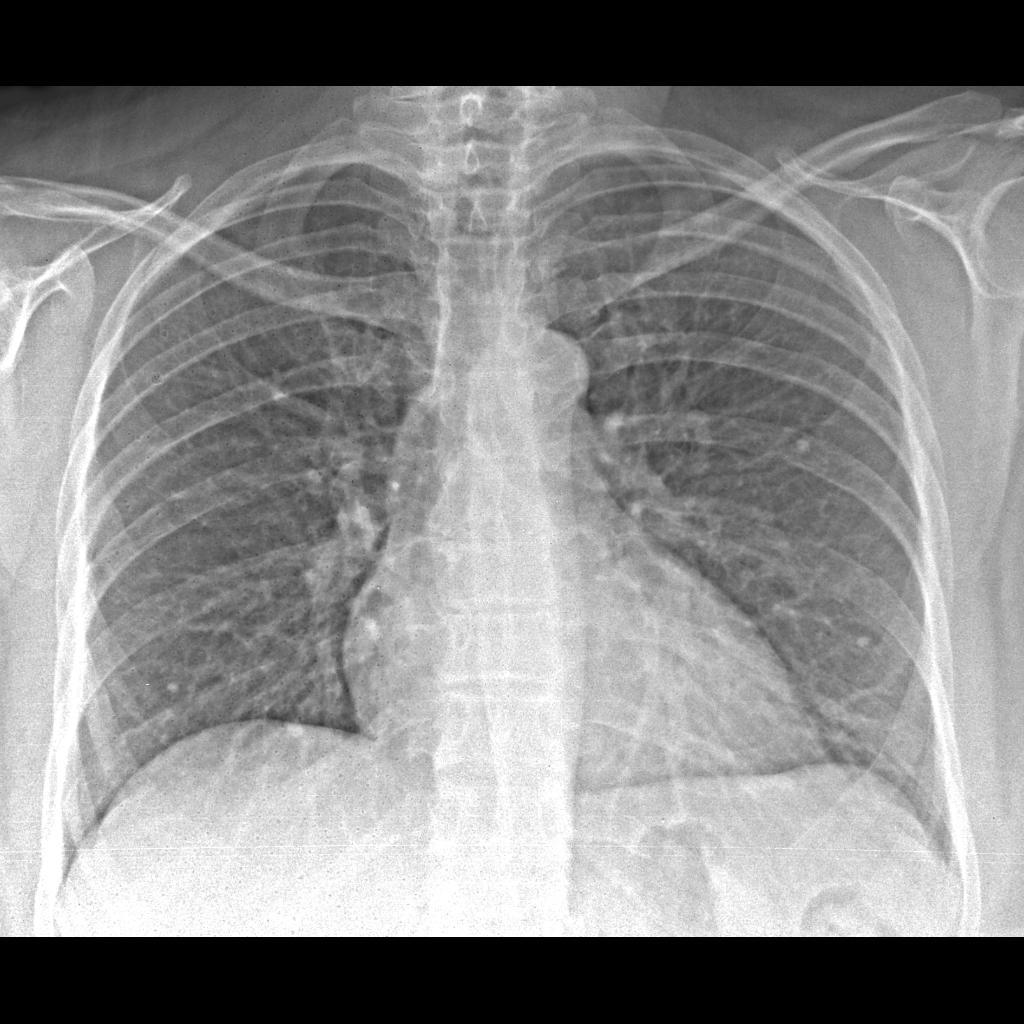Nodule: (338, 605, 386, 682)
